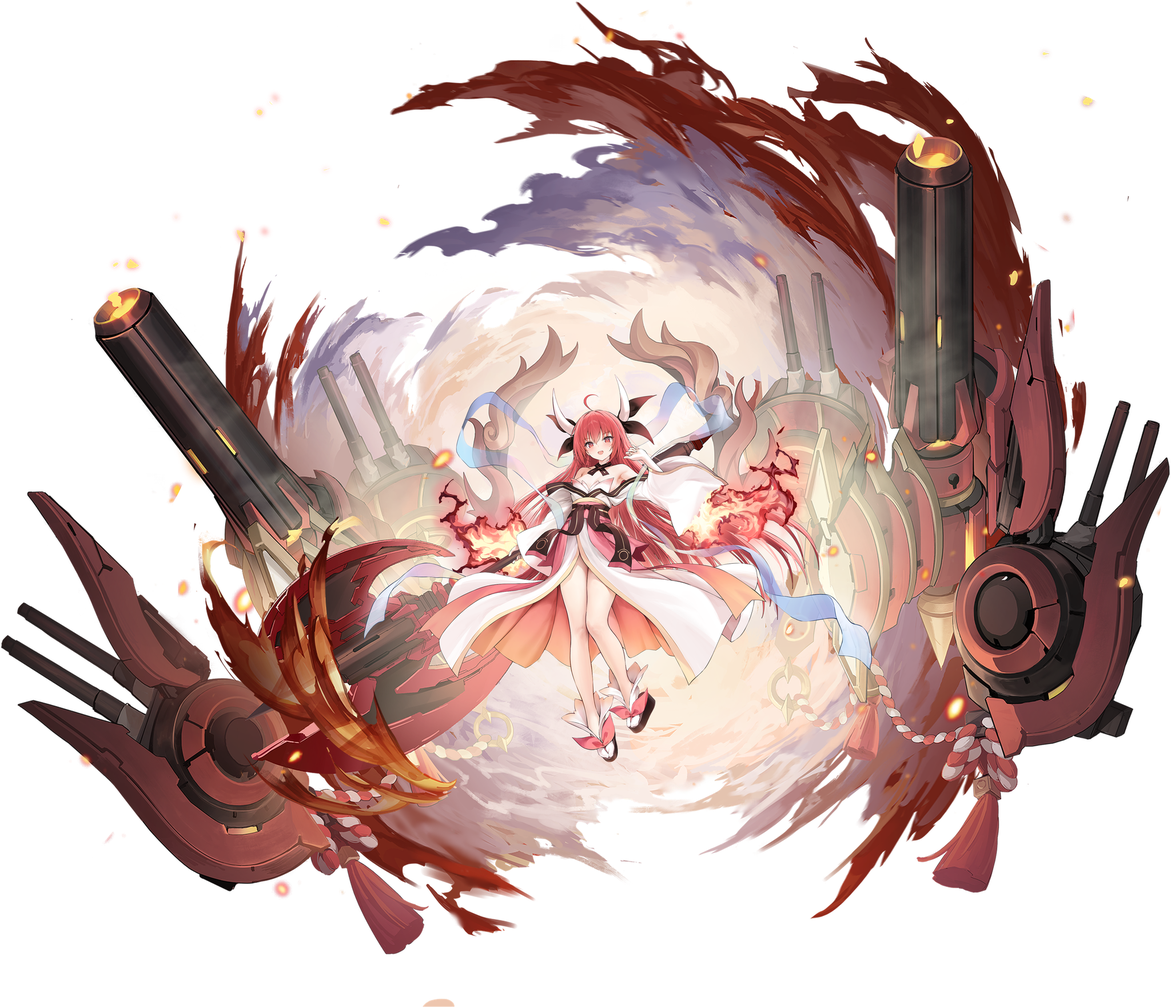person: (471, 369, 689, 779)
